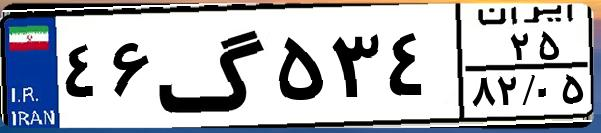0: (535, 70, 560, 125)
2: (508, 27, 537, 80), (495, 70, 520, 125)
3: (330, 28, 385, 110)
4: (385, 28, 445, 110), (57, 26, 110, 100)
5: (270, 28, 330, 110), (560, 70, 590, 125), (537, 27, 568, 80)
6: (110, 28, 156, 98)
8: (470, 70, 495, 125)
گ: (156, 12, 270, 120)
